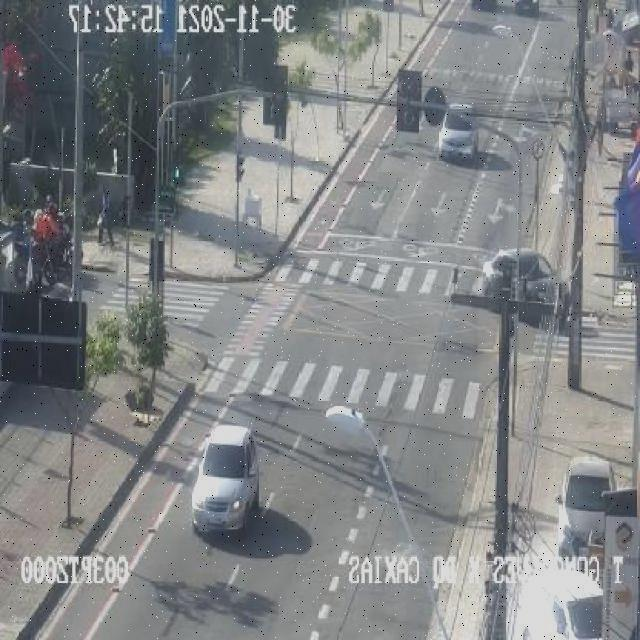Car: (188, 420, 262, 534), (432, 100, 482, 163)
